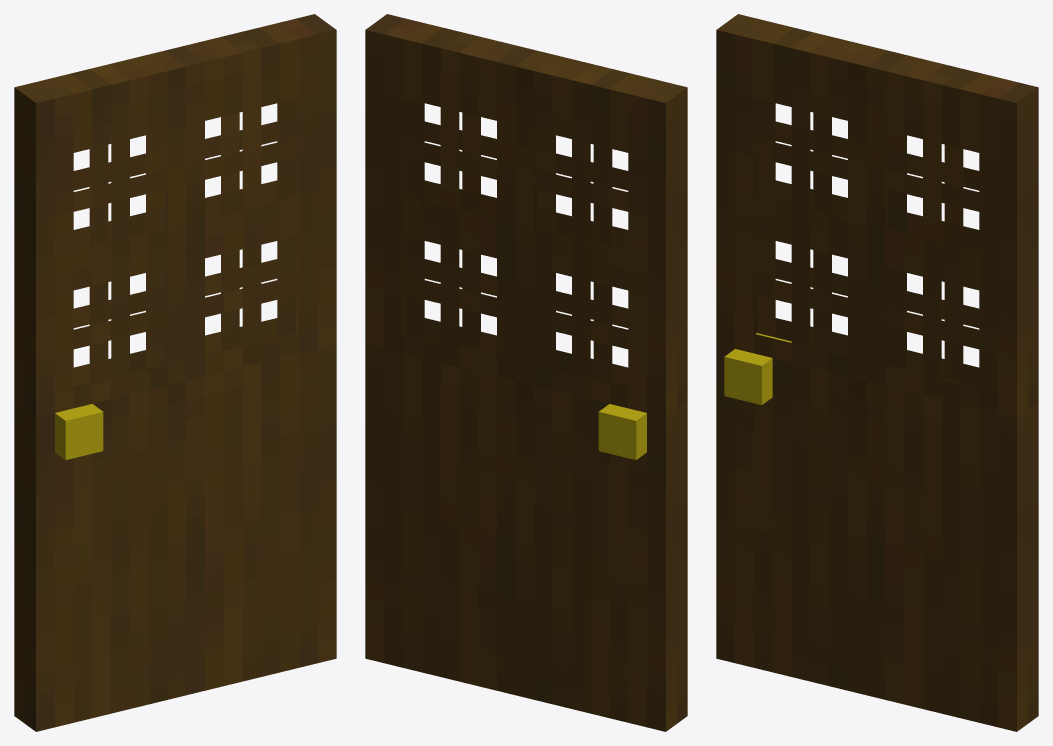
Rendered from Door.gltf.
3 views of the same model, side by side, from view 1: azimuth 30°, elevation 25°; view 2: azimuth 150°, elevation 25°; view 3: azimuth 330°, elevation 25° (orthographic).
Visible parts, largest first — view 1: cube (×2); view 2: cube (×2); view 3: cube (×2).
Boxes of the visible parts, bbox=[...] form: cube (×2): bbox=[14, 14, 336, 731]; cube (×2): bbox=[365, 14, 687, 731]; cube (×2): bbox=[716, 14, 1038, 731].
Size of the model in its own units: 1 by 2 by 0.25.
1 material, 1 textured.
